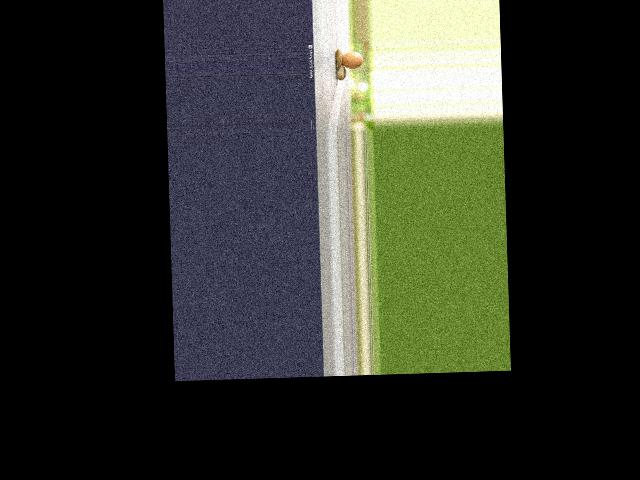egg: (341, 51, 362, 69)
